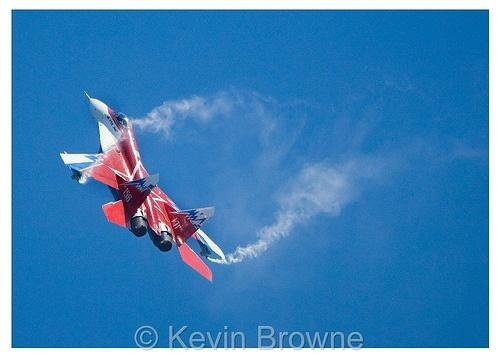aeroplane: (58, 92, 227, 284)
